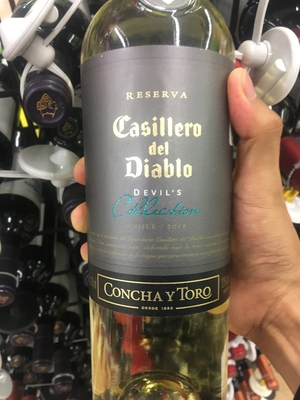casillero del diablo devils collection verde: (68, 14, 248, 388)
